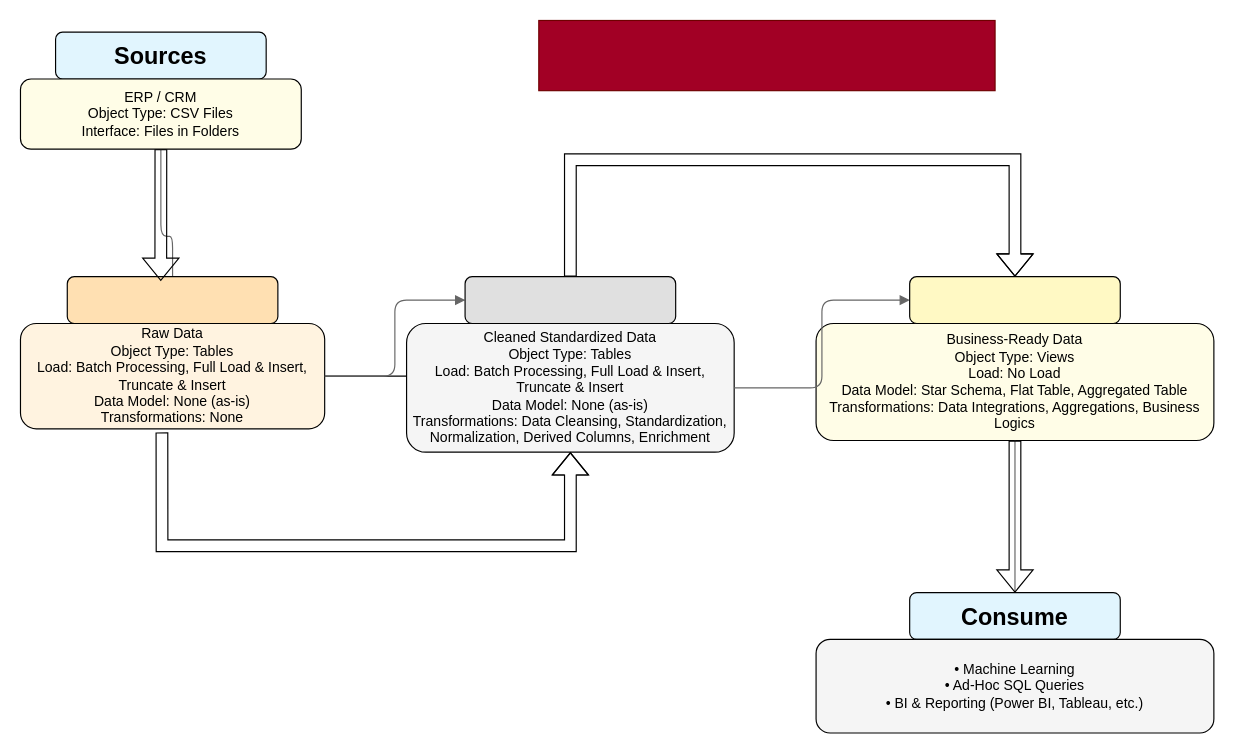
The diagram is 1234 pixels wide and 753 high, and some of its shapes have lost their labels. Here are the shapes that lost their labels. From the top down, the centre of each, then its label:
point 766,55: Data Warehouse Layered Architecture
point 172,300: Bronze Layer
point 570,300: Silver Layer
point 1014,300: Gold Layer
